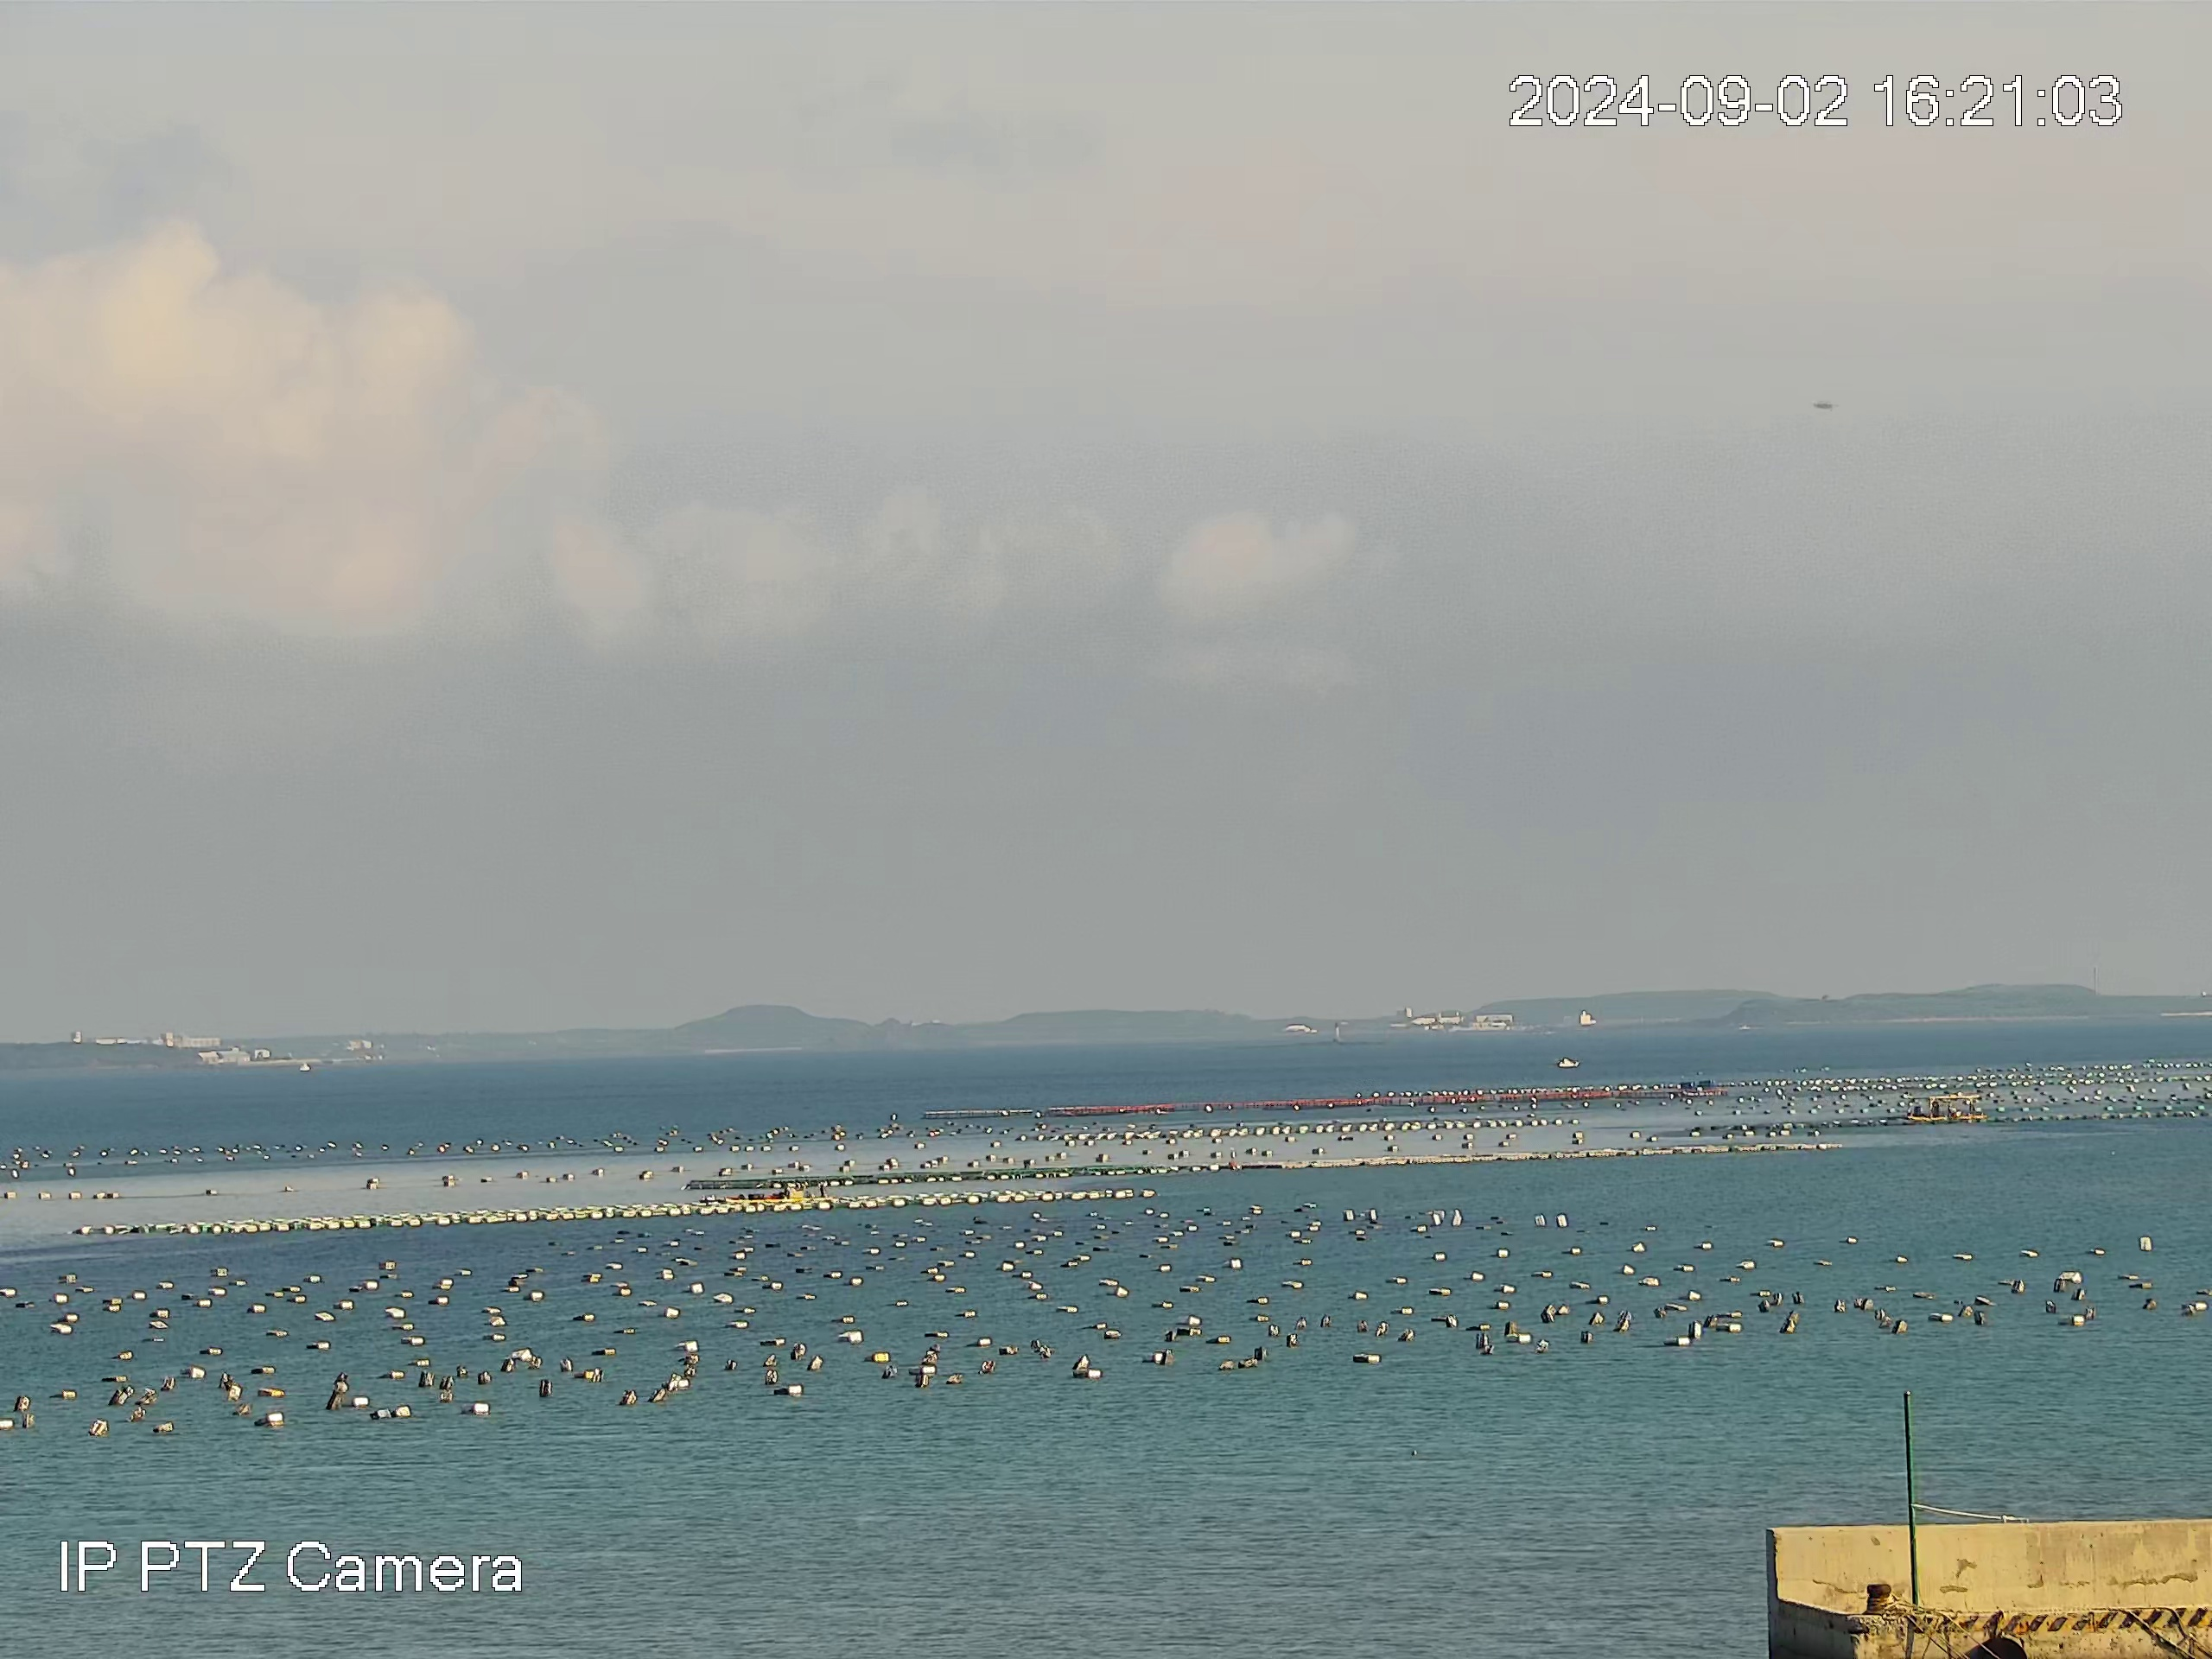boat: (1906, 1093, 1987, 1124), (723, 1180, 808, 1205), (1556, 1056, 1580, 1069)
